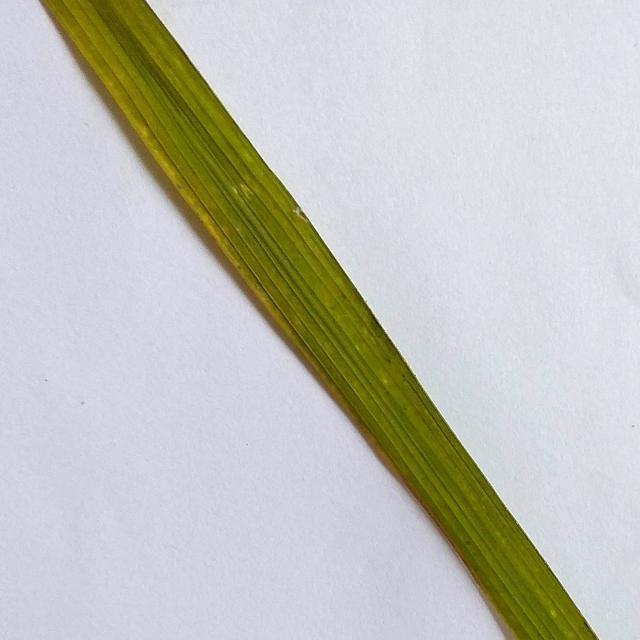Rice_Healthy: (45, 0, 599, 640)
